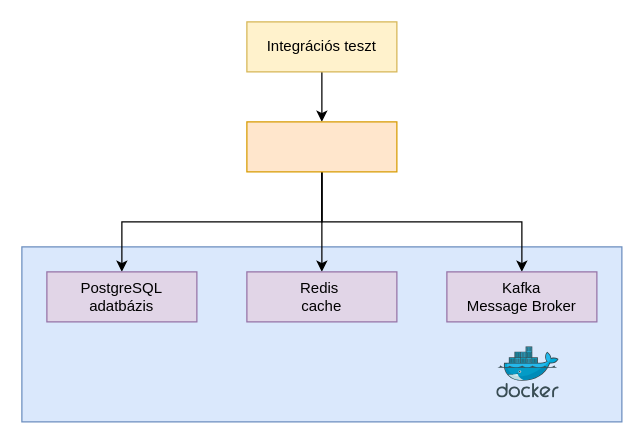
Image size: 644x444. Some labels were removed from this diagram. The box of each missing label's shape, as (x1, y1, x2, y2) in pixels:
Alkalmazás: (246, 121, 397, 172)
Docker: (21, 246, 622, 422)
